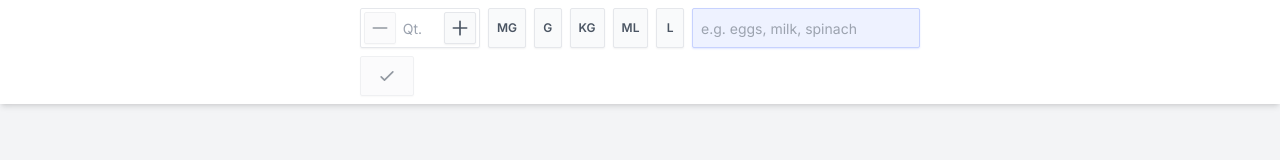
all grocery inputs are submitted
Type "milk" into the field with placeholder "e.g. eggs, milk, spinach" at (806, 28), box [692,8,920,48]
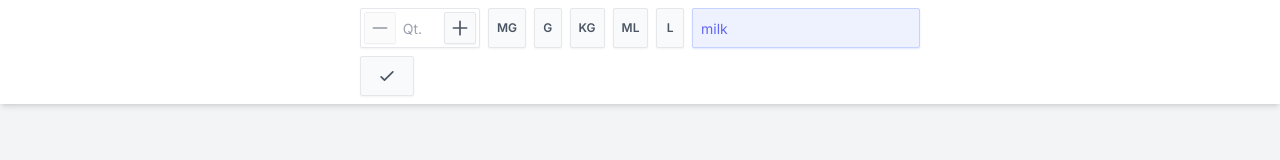
Type "100" into the number field with placeholder "Qt." at (420, 28), box [360,8,480,48]
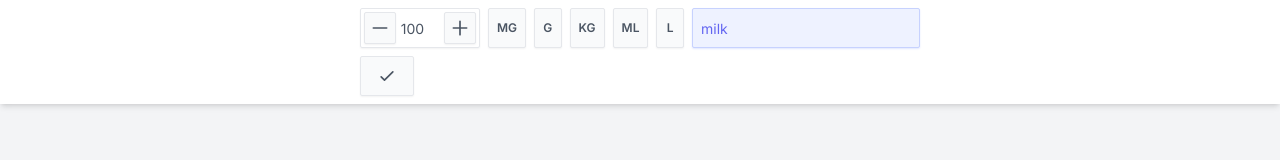
Click the radio button labelled "ml" at (631, 28), box [613,8,648,48]
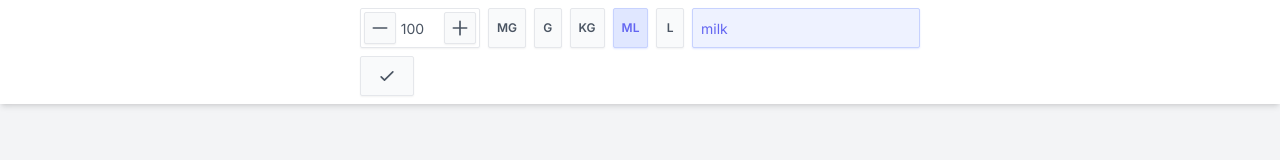
Click the button with test id "submit" at (387, 76), box [360,56,414,96]
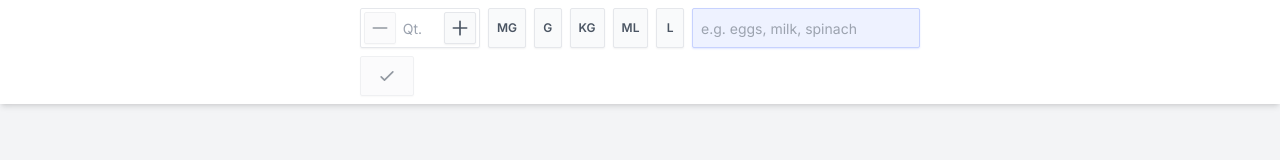
Now the field with placeholder "e.g. eggs, milk, spinach" is empty, box [692,8,920,48]
Now the number field with placeholder "Qt." is not empty, box [360,8,480,48]
